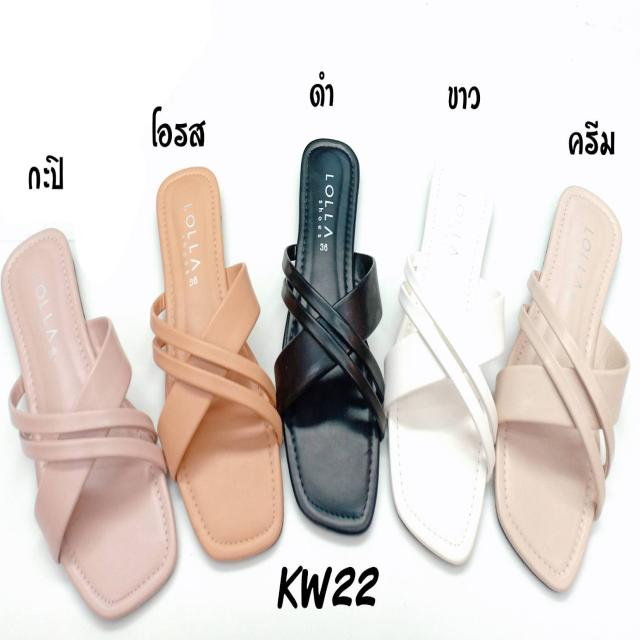black: (291, 141, 378, 534)
cream: (496, 185, 621, 590)
kapi: (0, 229, 177, 616)
orot: (163, 169, 284, 566)
white: (382, 165, 492, 562)
